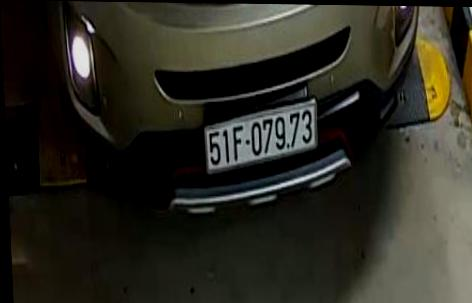License_Plate: (193, 96, 323, 174)
